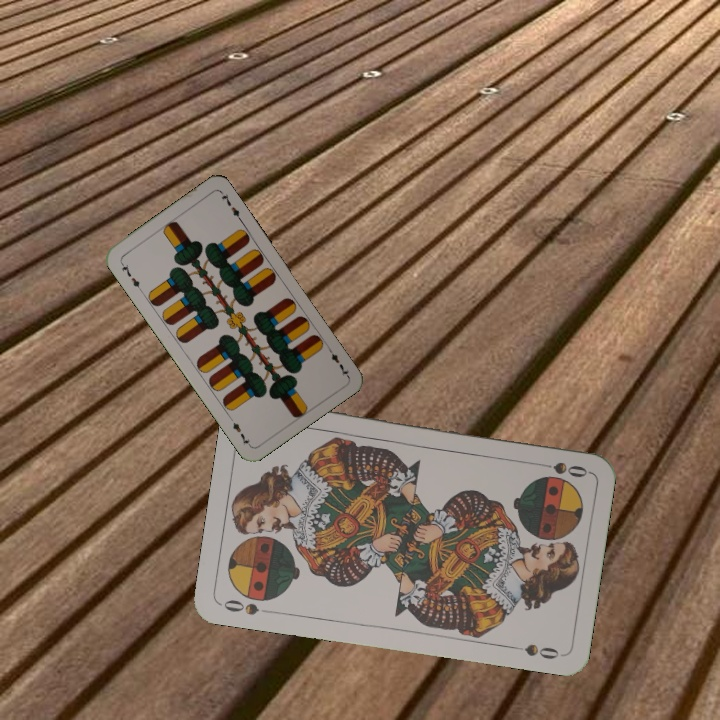E7: (116, 258, 144, 294), (323, 343, 351, 379)
SO: (531, 457, 590, 481), (219, 595, 276, 618)
